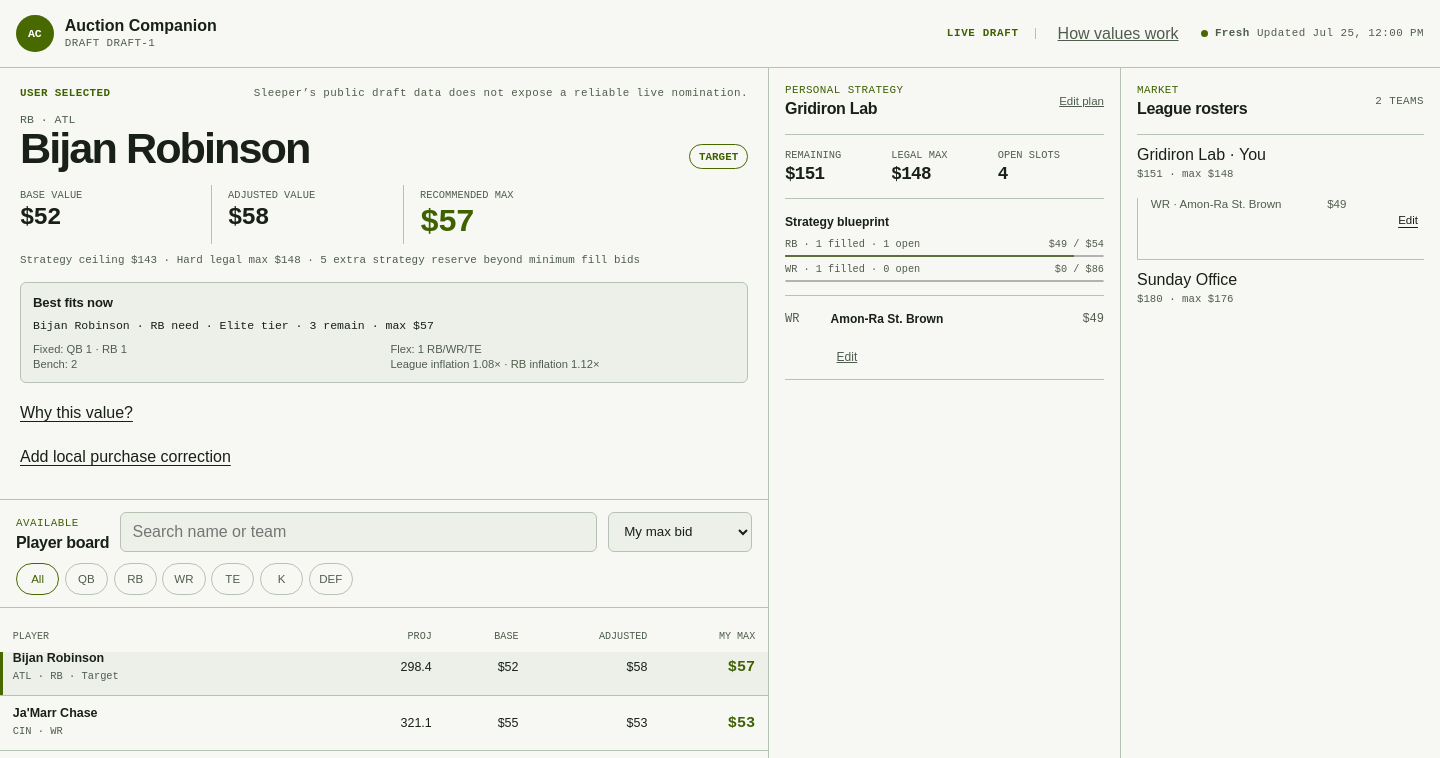
DraftRoomView › validates corrections against the minimum bid and the corrected team's legal maximum
Click the button "Add local purchase correction": (125, 457) [20,435,231,479]
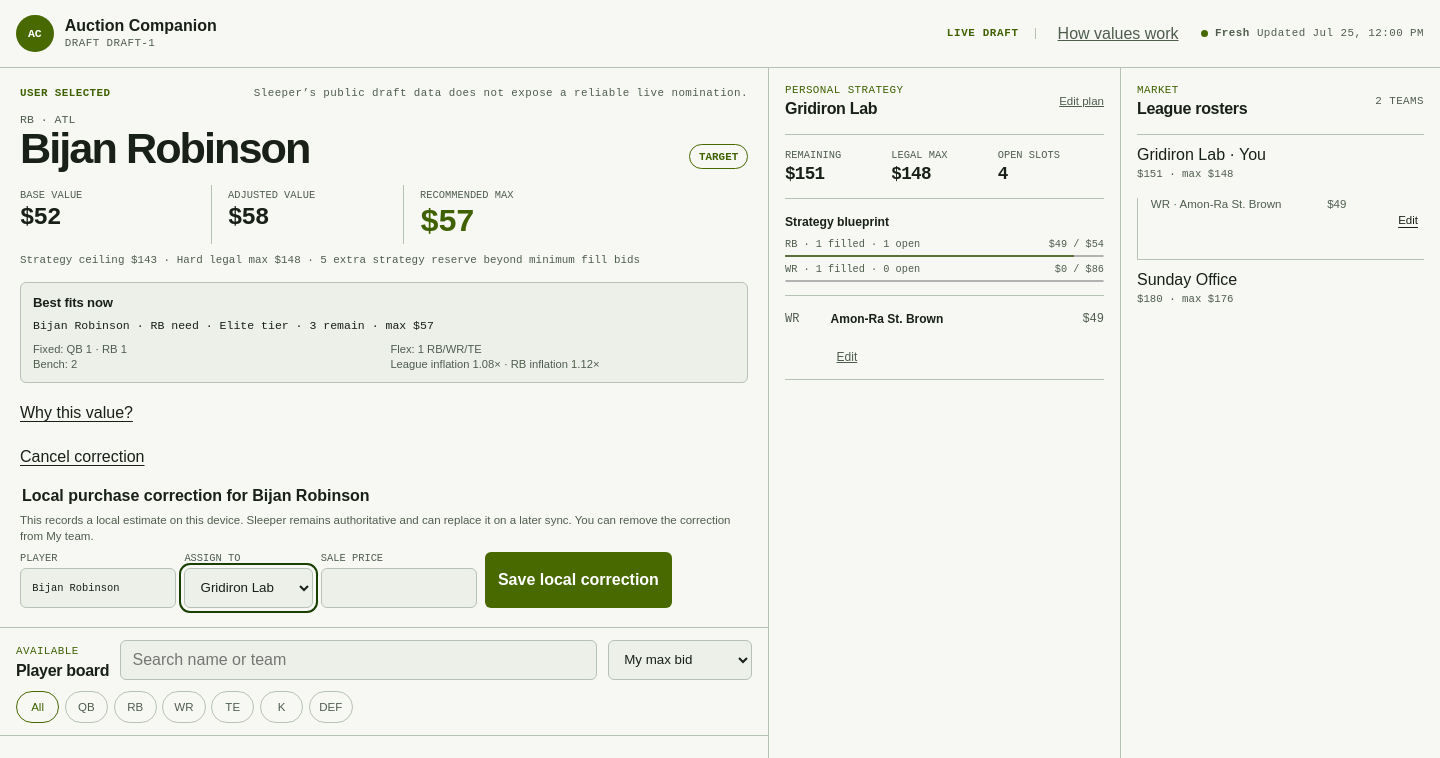
Check: the field labelled "Player" holds "Bijan Robinson", box [20,568,176,608]
In the number field named "Local sale price": (399, 588) [321,568,477,608], type "1"
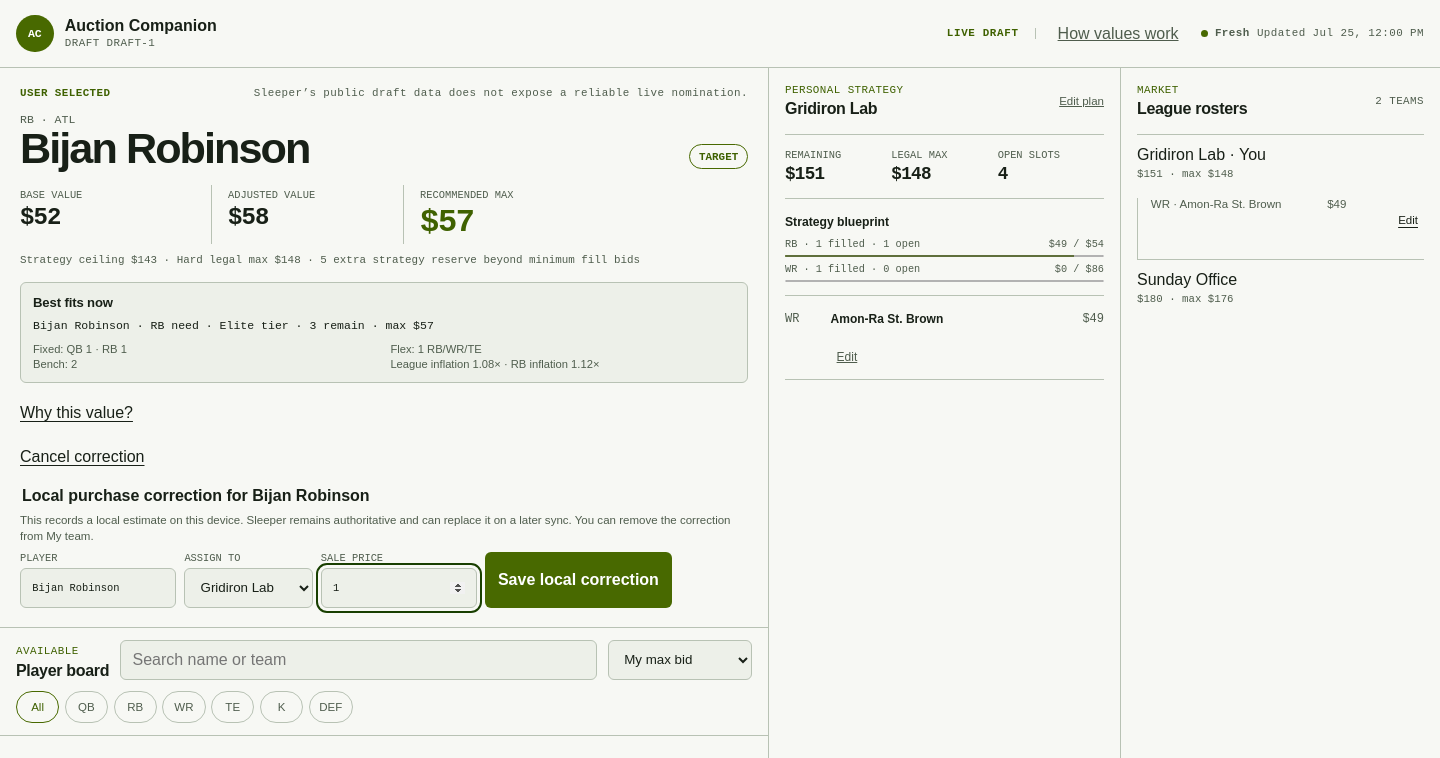
Click the button "Save local correction": (578, 580) [485,552,672,608]
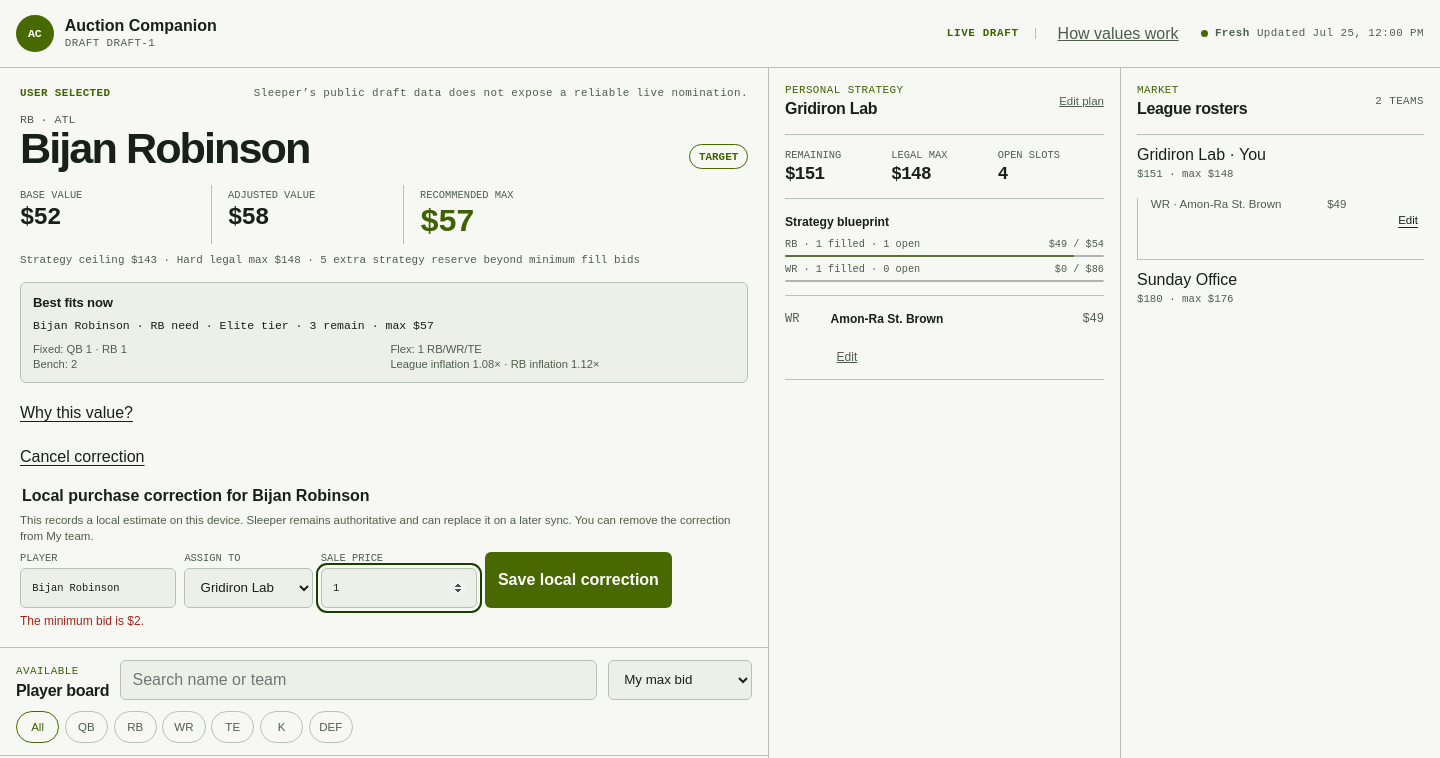
Check: the message "The minimum bid is $2." is shown, box [20,614,144,628]
Replace the text in the number field named "Local sale price" with "149": (399, 588) [321,568,477,608]
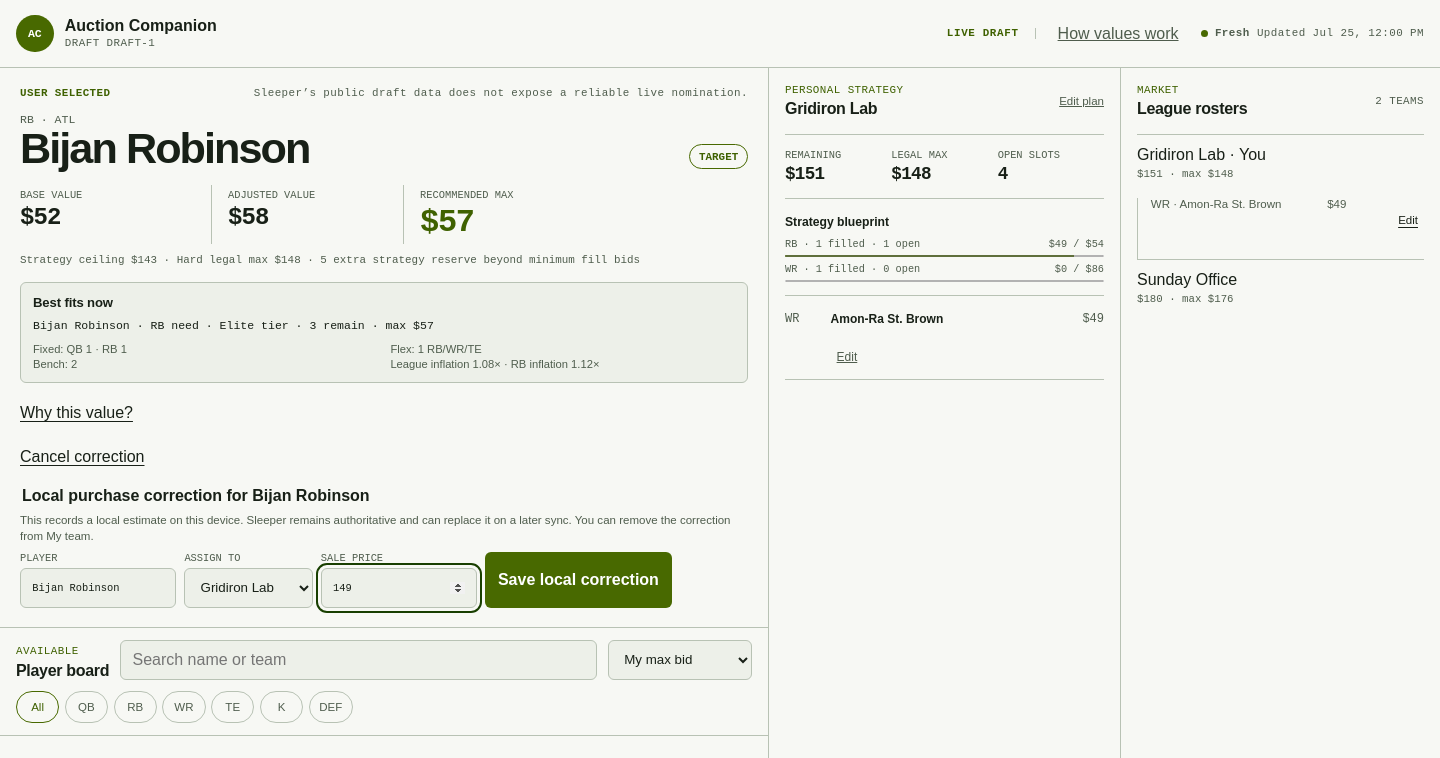
Click the button "Save local correction": (578, 580) [485,552,672,608]
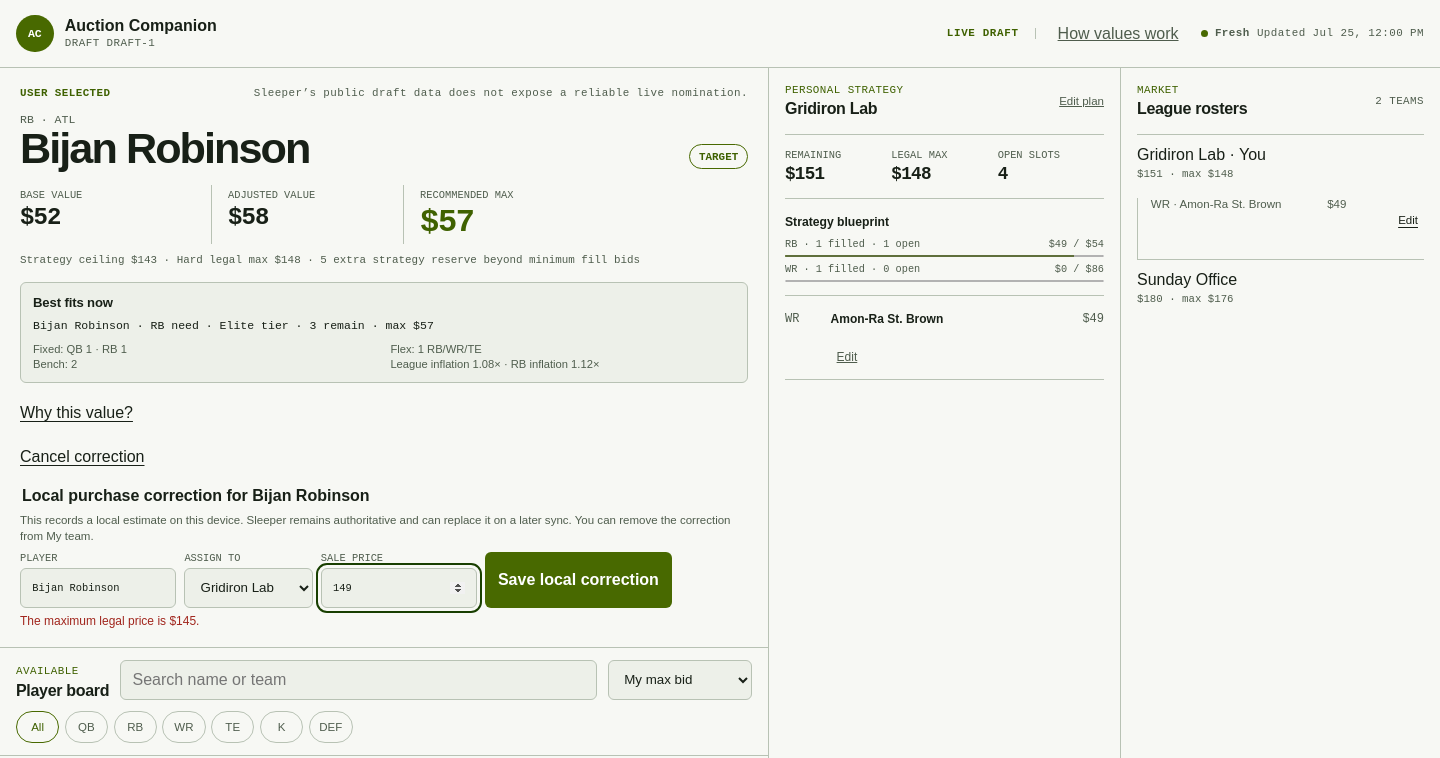
Check: the message "The maximum legal price is $145." is shown, box [20,614,199,628]
